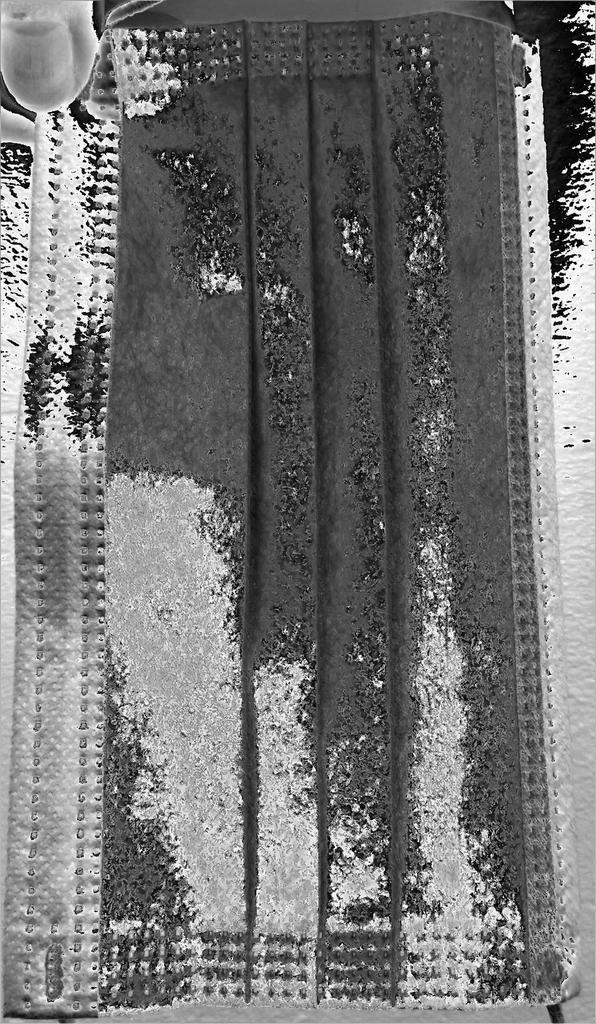Low GSM: (105, 74, 520, 926)
